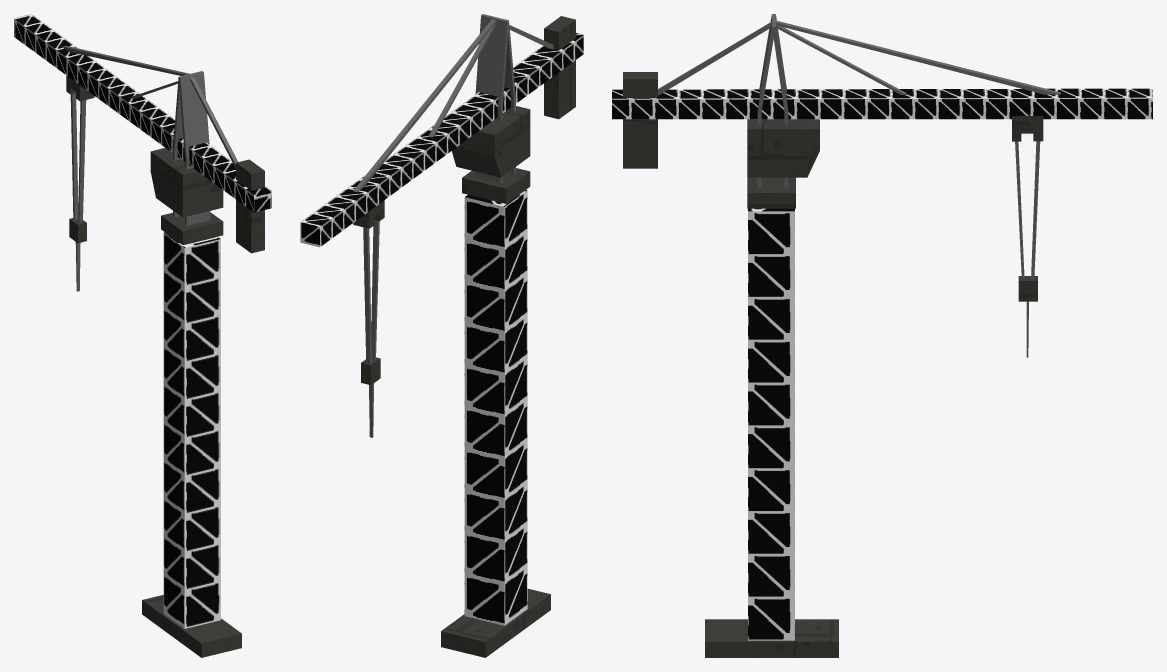
File: Hijskraan.fbx
The picture shows the model from 3 angles, left to right: view 1: azimuth 30°, elevation 25°; view 2: azimuth 150°, elevation 25°; view 3: azimuth 270°, elevation 25°; orthographic projection. The views are drawn at different scales.
Parts seen in each view (by area): view 1: Cube.023, Cube.021, Cube.020, Cube.024, Cube.037; view 2: Cube.023, Cube.021, Cube.020, Cube.024, Cube.037, Cube.039, Cube.038; view 3: Cube.023, Cube.020, Cube.021, Cube.024, Cube.037.
Part boxes in pixels (x1,y1,x2,y2): Cube.023: [163, 233, 220, 628]; Cube.021: [142, 148, 264, 657]; Cube.020: [14, 14, 271, 247]; Cube.024: [62, 45, 238, 225]; Cube.037: [70, 93, 86, 291]; Cube.023: [464, 190, 527, 625]; Cube.021: [441, 16, 575, 657]; Cube.020: [300, 33, 583, 247]; Cube.024: [353, 14, 553, 191]; Cube.037: [363, 220, 379, 437]; Cube.039: [361, 357, 380, 385]; Cube.038: [353, 200, 384, 228]; Cube.023: [748, 211, 794, 640]; Cube.020: [612, 88, 1152, 211]; Cube.021: [623, 72, 838, 657]; Cube.024: [658, 14, 1060, 188]; Cube.037: [1015, 141, 1040, 357].
Size of the model in its own units: 34.39 by 450 by 352.
